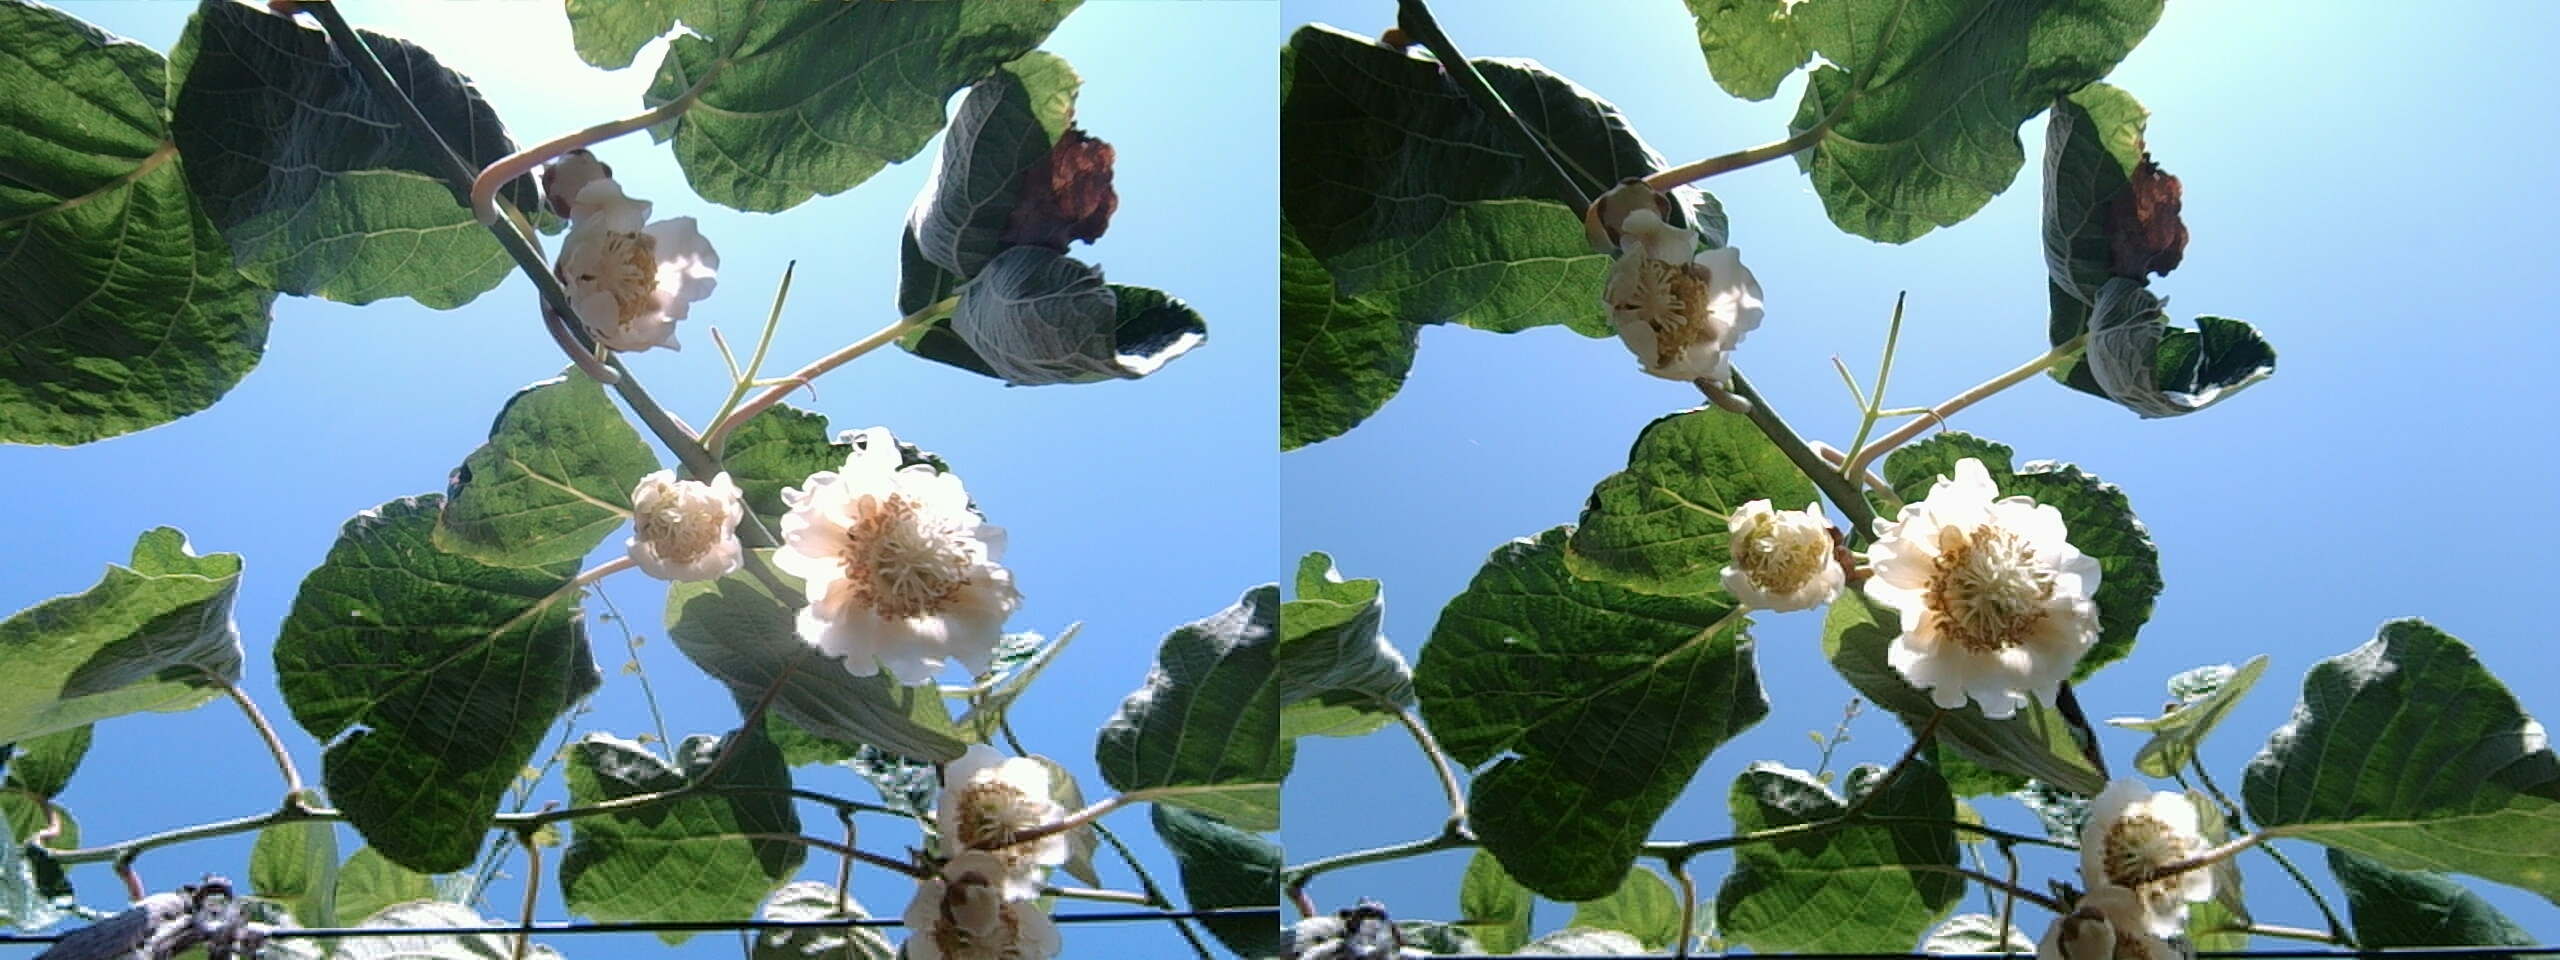flower: (1860, 457, 2116, 709), (764, 433, 1020, 678), (536, 175, 717, 354), (1585, 199, 1757, 380), (936, 756, 1082, 891), (1719, 496, 1853, 616), (624, 469, 741, 575)
